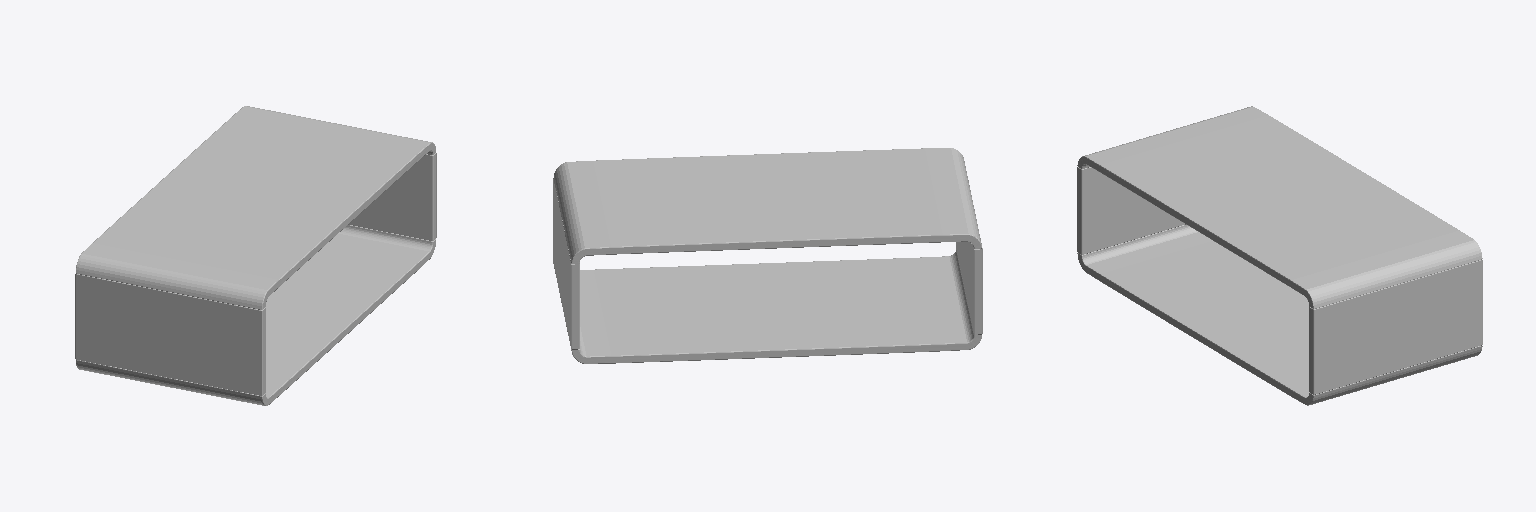
The model's file is tableall3.obj.
The picture shows the model from 3 angles: view 1: azimuth 30°, elevation 25°; view 2: azimuth 150°, elevation 25°; view 3: azimuth 270°, elevation 25°; orthographic projection.
Visible parts, largest first — view 1: Object001, Plane001; view 2: Object001, Plane001; view 3: Object001, Plane001.
Part boxes in pixels (x1,y1,x2,y2): Object001: (76, 106, 435, 405); Plane001: (75, 153, 436, 395); Object001: (554, 148, 981, 363); Plane001: (553, 178, 982, 349); Object001: (1077, 106, 1482, 405); Plane001: (1077, 167, 1482, 394).
Size of the model in its own units: 10.5 by 2.97 by 9.33.